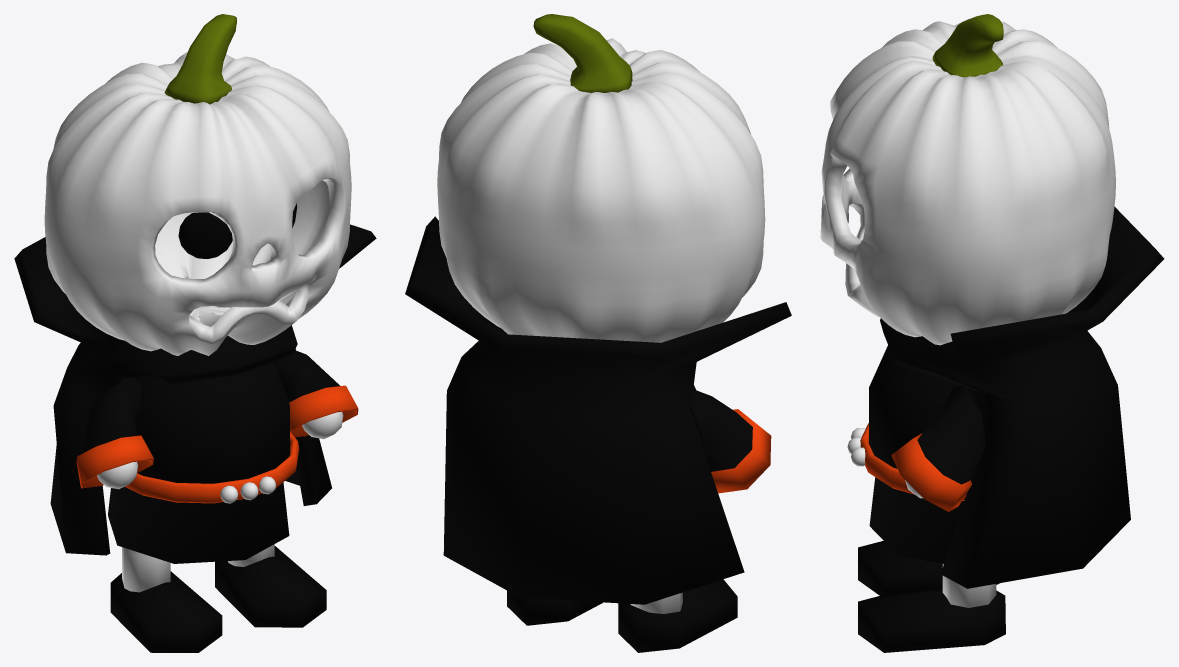
Rendered from Pumpkin Man.fbx.
3 renders of one model, left to right at view 1: azimuth 30°, elevation 25°; view 2: azimuth 150°, elevation 25°; view 3: azimuth 270°, elevation 25°, orthographic. The views are drawn at different scales.
Visible parts, largest first — view 1: Sphere.030, Cylinder.041, Cylinder.040, Cube.020, Cube.021, Cylinder.044, Cylinder.045, Cube.019, Cylinder.046, Sphere.032, Cylinder.042, Icosphere.030 (+1 smaller); view 2: Sphere.030, Cylinder.040, Cylinder.044, Cube.020, Cube.019, Cube.021, Cylinder.042; view 3: Sphere.030, Cylinder.040, Cylinder.041, Cube.021, Cylinder.045, Cube.020, Cube.019, Cylinder.043, Cylinder.046.
Boxes of the visible parts, x1=… form: Sphere.030: x1=44, y1=51, x2=351, y2=355; Cylinder.041: x1=108, y1=362, x2=289, y2=563; Cylinder.040: x1=14, y1=224, x2=376, y2=555; Cube.020: x1=110, y1=571, x2=222, y2=652; Cube.021: x1=215, y1=546, x2=326, y2=627; Cylinder.044: x1=76, y1=377, x2=153, y2=488; Cylinder.045: x1=274, y1=350, x2=358, y2=437; Cube.019: x1=164, y1=14, x2=236, y2=104; Cylinder.046: x1=125, y1=431, x2=299, y2=503; Sphere.032: x1=178, y1=212, x2=232, y2=258; Cylinder.042: x1=122, y1=547, x2=170, y2=592; Icosphere.030: x1=302, y1=411, x2=343, y2=439; Sphere.030: x1=437, y1=38, x2=765, y2=342; Cylinder.040: x1=405, y1=216, x2=791, y2=604; Cylinder.044: x1=691, y1=389, x2=771, y2=493; Cube.020: x1=618, y1=579, x2=737, y2=652; Cube.019: x1=533, y1=14, x2=632, y2=92; Cube.021: x1=507, y1=590, x2=603, y2=625; Cylinder.042: x1=630, y1=592, x2=682, y2=613; Sphere.030: x1=820, y1=18, x2=1115, y2=345; Cylinder.040: x1=880, y1=206, x2=1164, y2=588; Cylinder.041: x1=869, y1=345, x2=971, y2=563; Cube.021: x1=858, y1=588, x2=1005, y2=652; Cylinder.045: x1=891, y1=385, x2=985, y2=511; Cube.020: x1=858, y1=540, x2=999, y2=595; Cube.019: x1=932, y1=14, x2=1003, y2=77; Cylinder.043: x1=942, y1=564, x2=996, y2=607; Cylinder.046: x1=860, y1=423, x2=966, y2=500.
Bounding box in the file's own units: 284 × 450 × 232.
